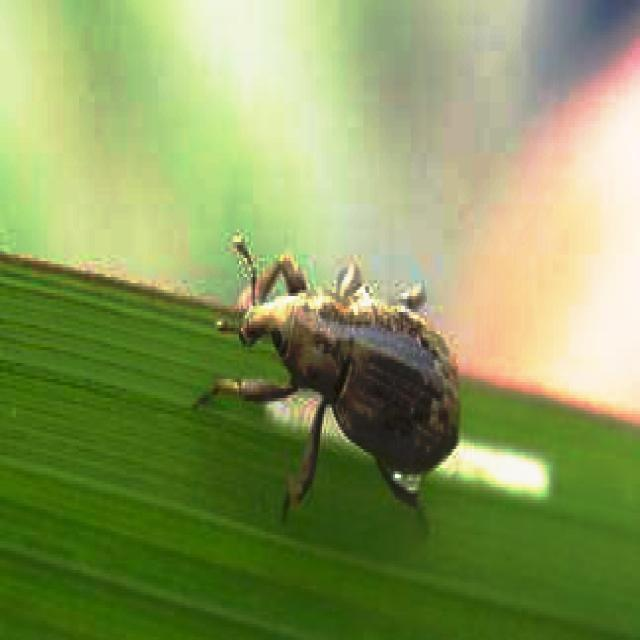rice-bug: (217, 253, 465, 492)
